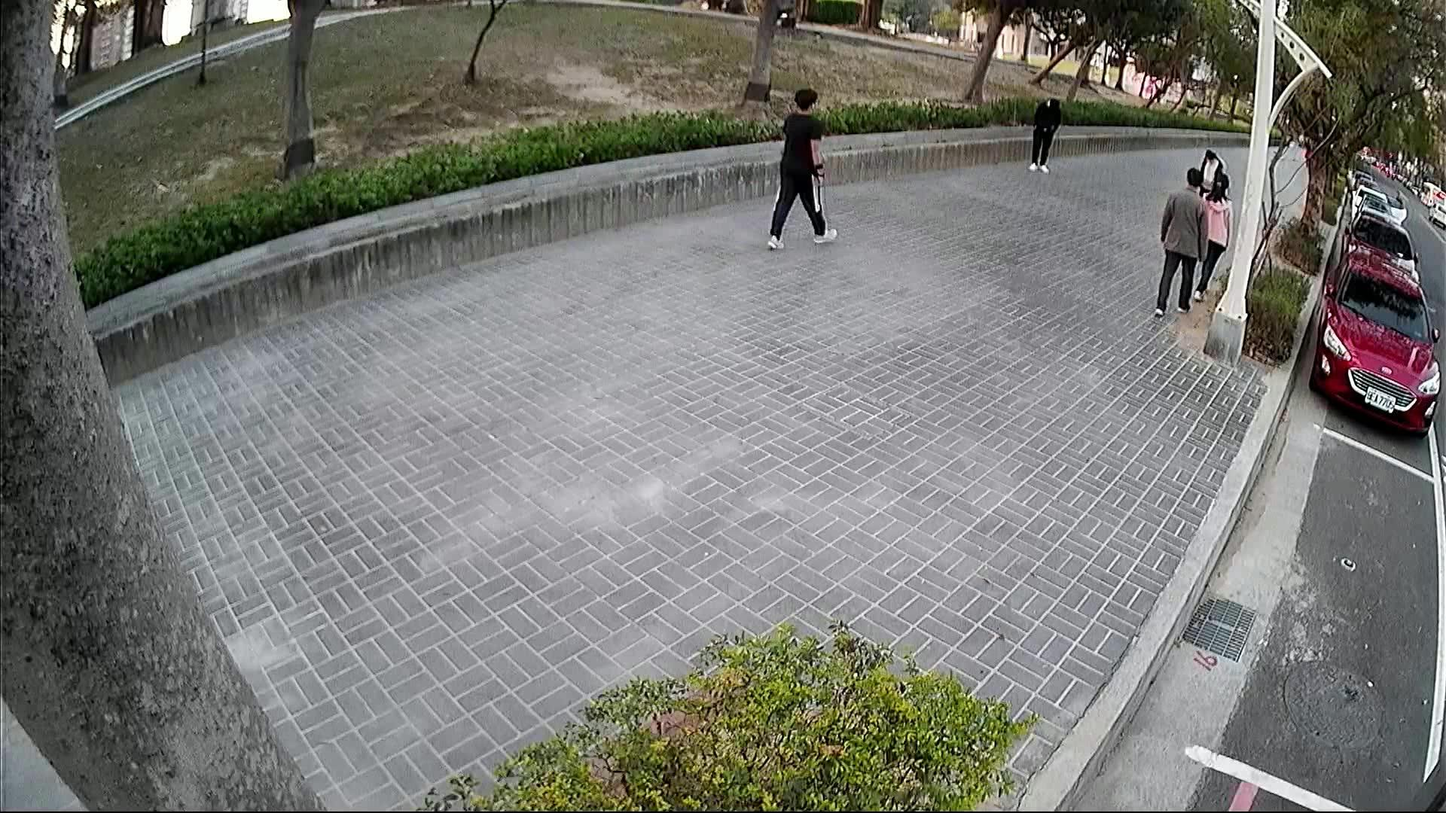person: (758, 79, 839, 251), (1149, 160, 1211, 322), (1188, 169, 1232, 306), (1024, 93, 1063, 175), (1193, 143, 1227, 197)
